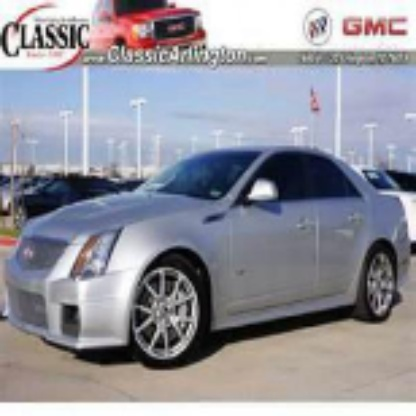Vehicle: (1, 146, 414, 372)
